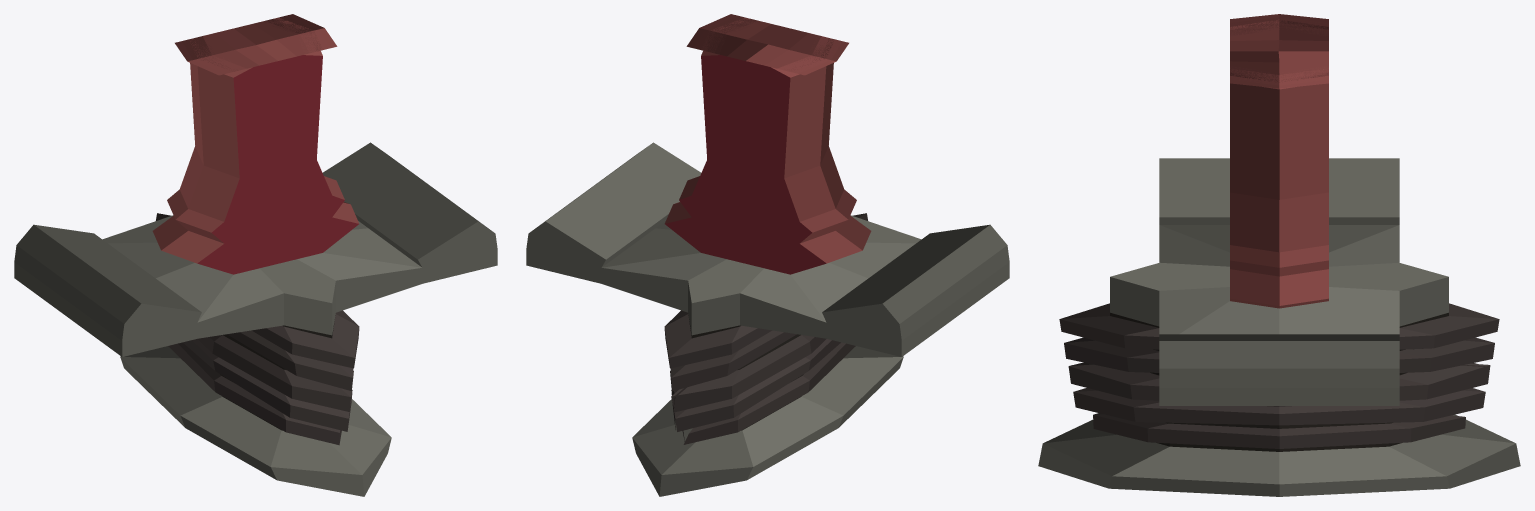
File: gild_claymore.glb
3 renders of one model, left to right at view 1: azimuth 30°, elevation 25°; view 2: azimuth 150°, elevation 25°; view 3: azimuth 270°, elevation 25°, orthographic. The views are drawn at different scales.
Size of the model in its own units: 2 by 2 by 2.
